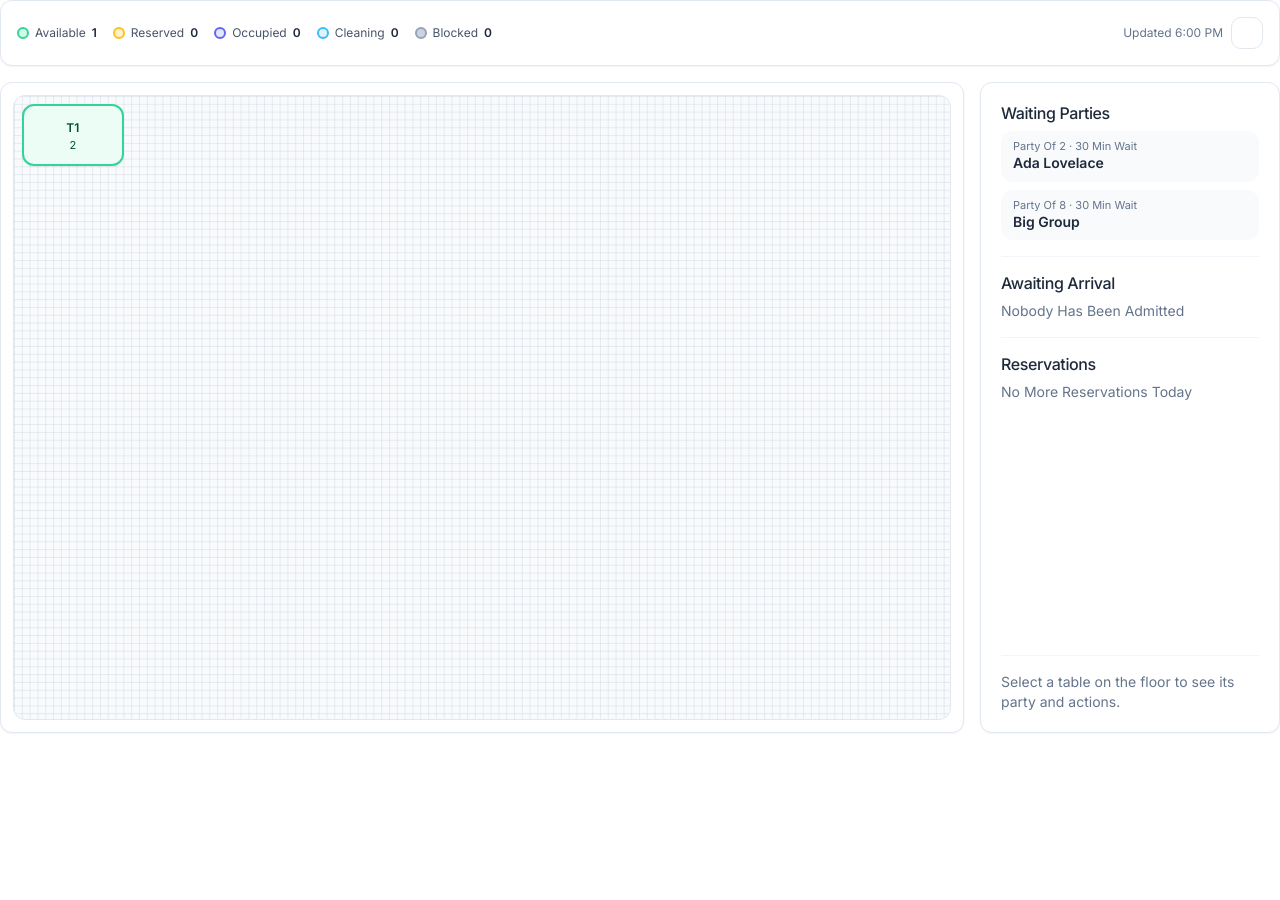
Scenario: table actions › offers only waiting parties that fit the table
The image size is (1280, 900).
Press the mouse on the button with test id "live-table-T1" at (73, 135), box [22,104,124,166]
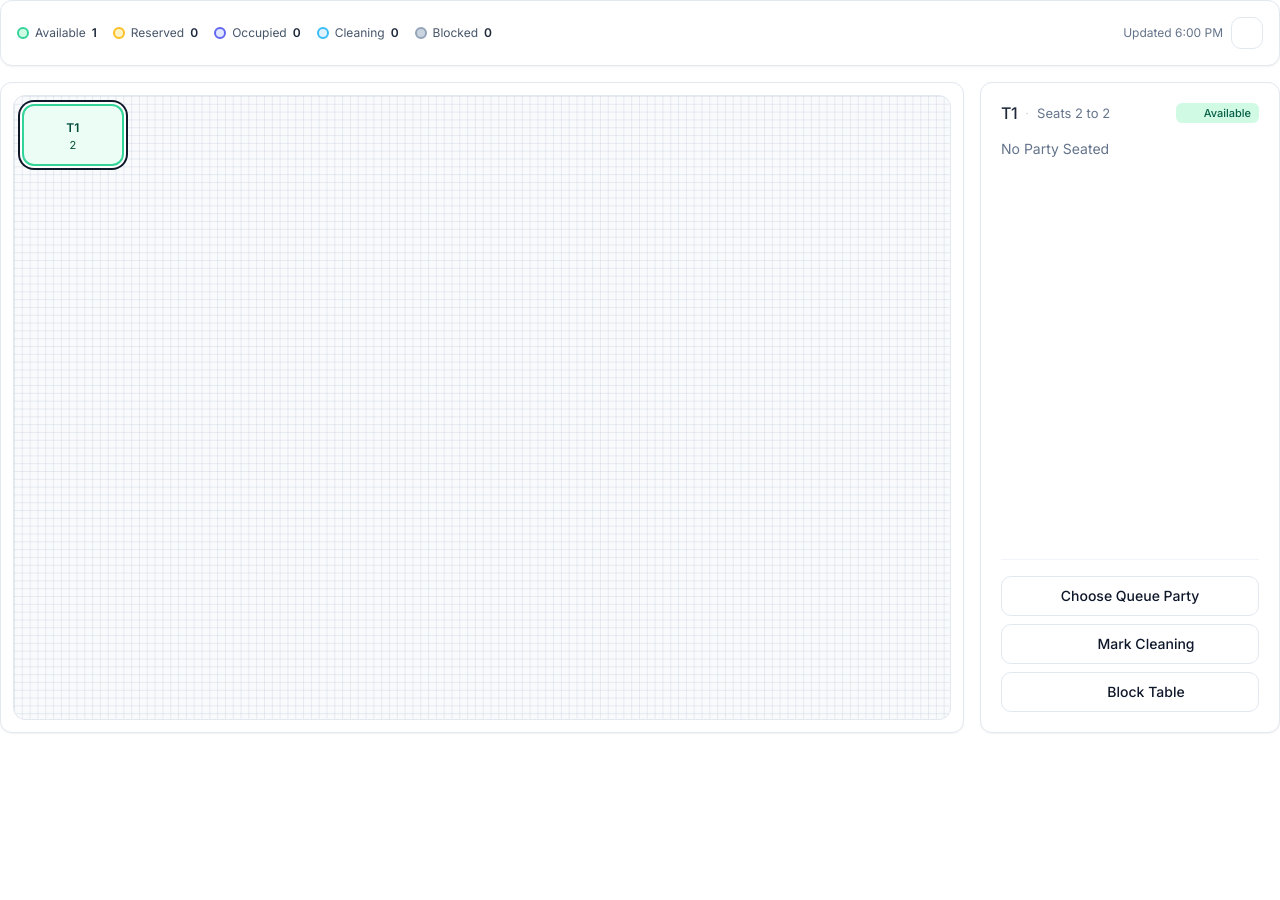
Click the button "Choose Queue Party" at (1130, 596), box [1001,576,1259,616]
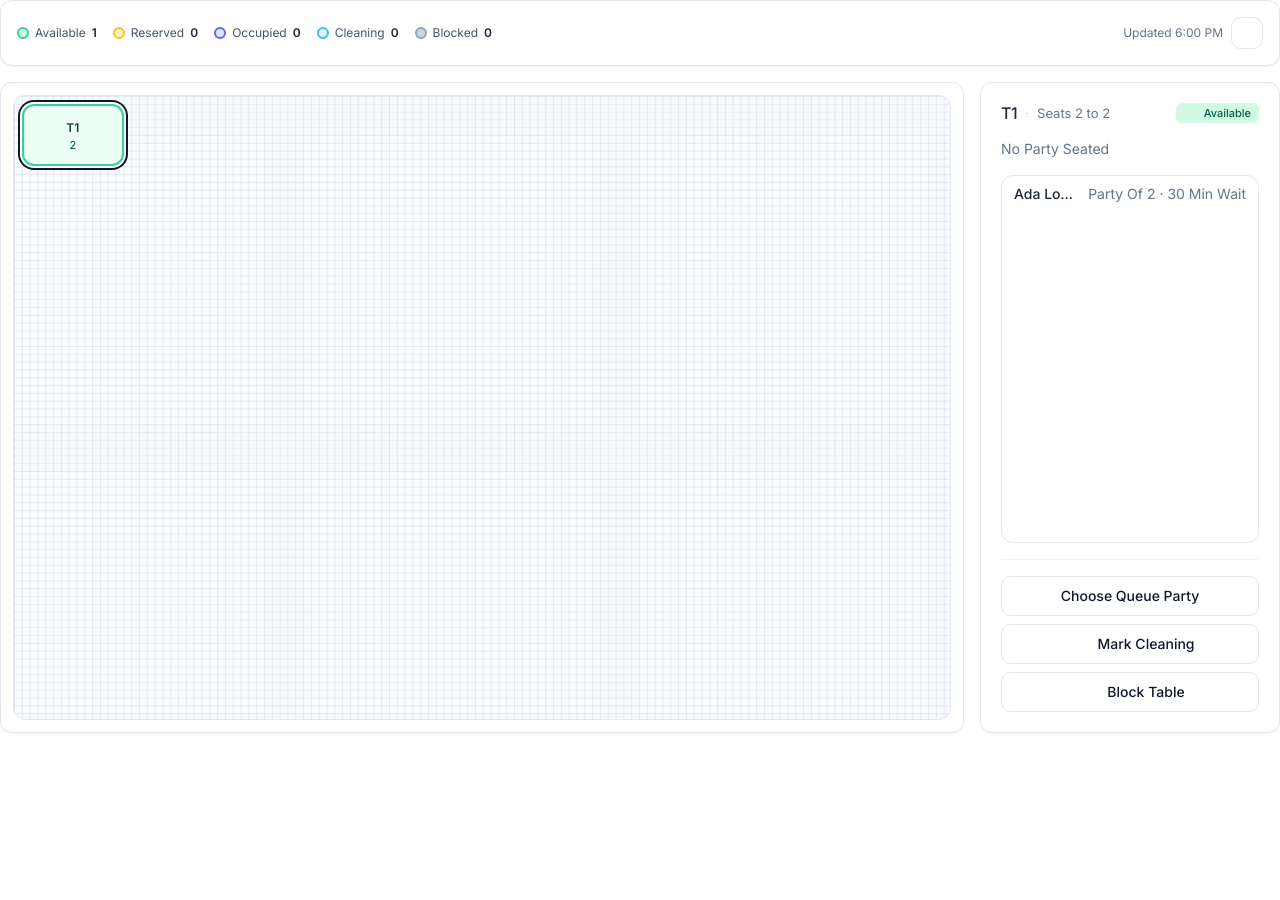
Check: the button with test id "seat-party-queue-1" is shown, box [1002,176,1258,212]
